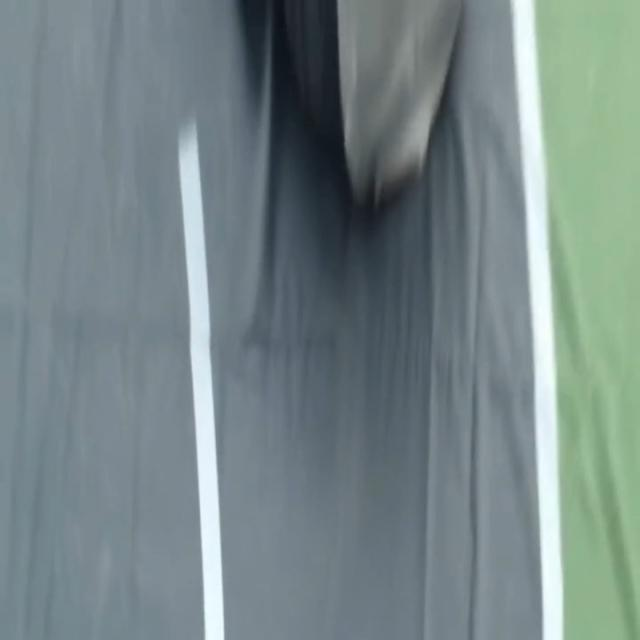center: (178, 119, 224, 639)
right: (510, 0, 563, 639)
